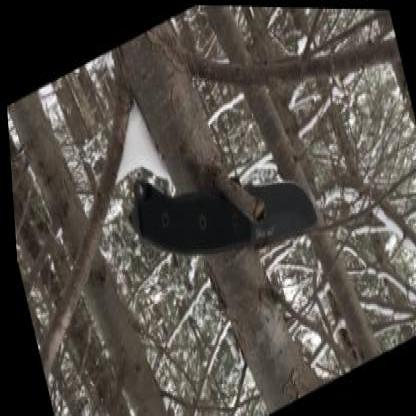knife: (178, 122, 326, 290)
